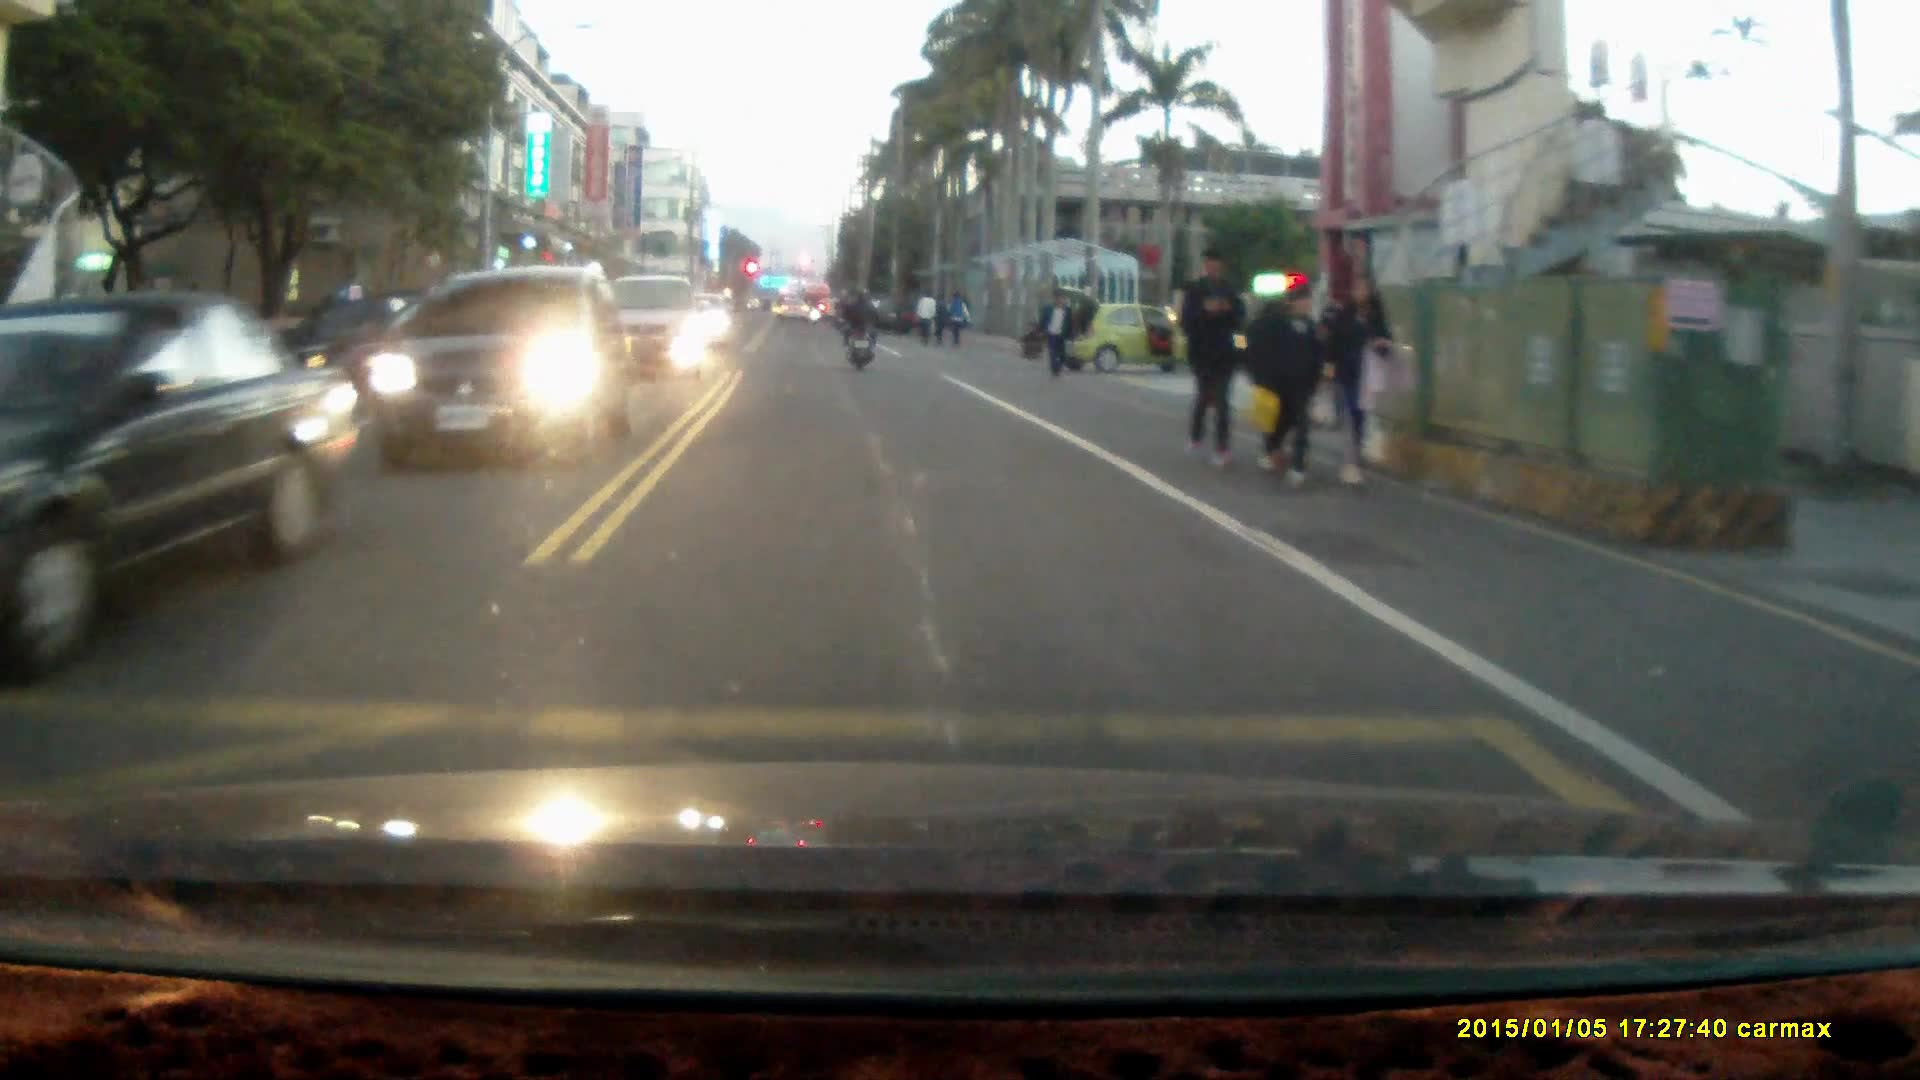pedestrian: (1243, 278, 1324, 488), (1177, 242, 1247, 473), (1323, 274, 1395, 490), (1038, 287, 1072, 381)
rider: (839, 282, 880, 370)
vehicle: (1, 283, 388, 659), (365, 261, 627, 464), (1052, 278, 1210, 370), (596, 274, 710, 378)
